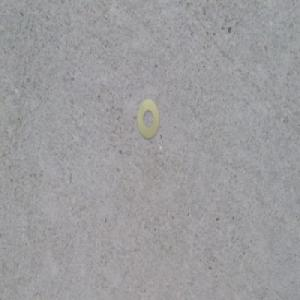Washer: (136, 96, 159, 140)
